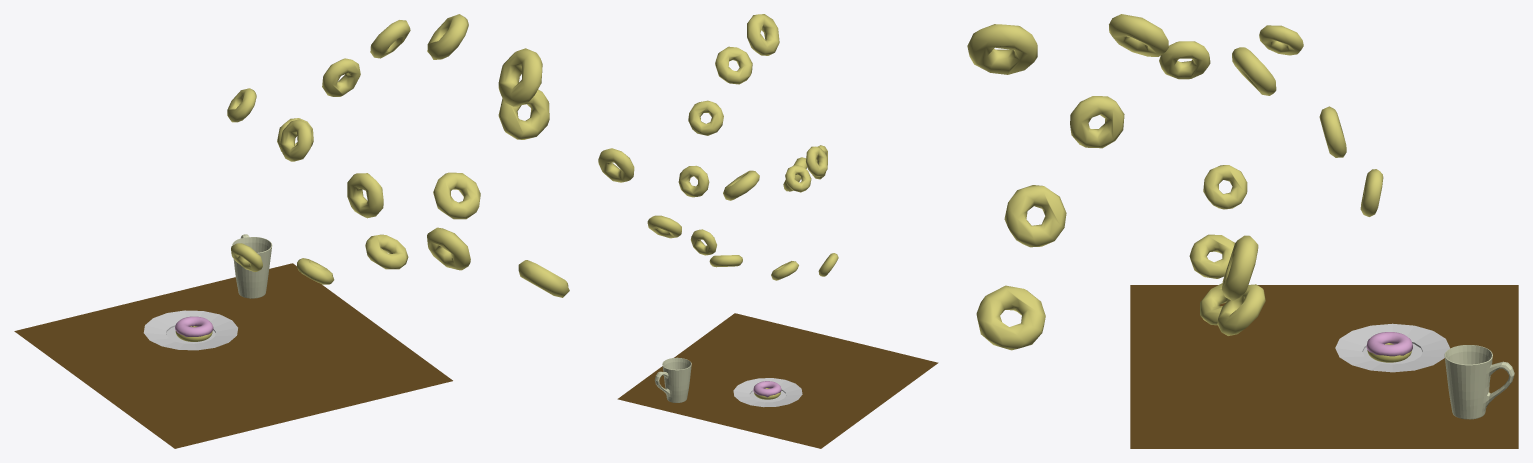
Rendered from donas2.gltf.
3 views of the same model, side by side, from view 1: azimuth 30°, elevation 25°; view 2: azimuth 150°, elevation 25°; view 3: azimuth 270°, elevation 25° (orthographic). The views are drawn at different scales.
Parts seen in each view (by area): view 1: mesa, donas espiral, plato, tasa, Torus.002; view 2: mesa, donas espiral, tasa, plato, Torus.002; view 3: mesa, donas espiral, tasa, plato, Torus.002.
Boxes of the visible parts, x1=… form: mesa: x1=14, y1=263, x2=452, y2=448; donas espiral: x1=227, y1=14, x2=569, y2=297; plato: x1=143, y1=310, x2=237, y2=350; tasa: x1=232, y1=234, x2=272, y2=298; Torus.002: x1=175, y1=316, x2=213, y2=336; mesa: x1=617, y1=313, x2=938, y2=448; donas espiral: x1=598, y1=14, x2=838, y2=280; tasa: x1=654, y1=357, x2=691, y2=402; plato: x1=733, y1=378, x2=802, y2=407; Torus.002: x1=753, y1=381, x2=781, y2=397; mesa: x1=1130, y1=285, x2=1518, y2=448; donas espiral: x1=967, y1=14, x2=1383, y2=350; tasa: x1=1444, y1=345, x2=1514, y2=419; plato: x1=1335, y1=323, x2=1449, y2=372; Torus.002: x1=1366, y1=332, x2=1412, y2=356.
Size of the model in its own units: 23.73 by 20.45 by 22.4.
